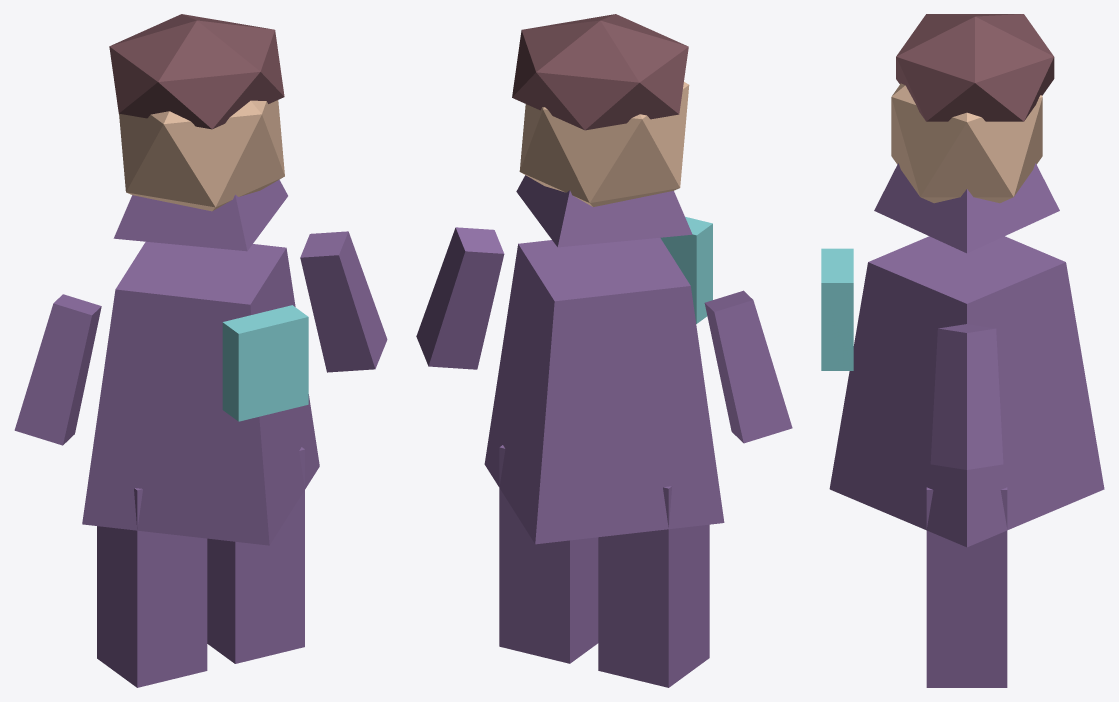
The model's file is lydia-v01.glb.
3 renders of one model, left to right at view 1: azimuth 30°, elevation 25°; view 2: azimuth 150°, elevation 25°; view 3: azimuth 270°, elevation 25°, orthographic.
Visible parts, largest first — view 1: torso, leg, hair, head, leg.001, charm, arm.001, arm, collar; view 2: torso, leg, hair, leg.001, head, arm.001, arm, collar, charm; view 3: torso, hair, leg.001, head, arm.001, collar, charm.
Boxes of the visible parts, x1,y1,x2,y2 form: torso: (82, 241, 319, 545); leg: (97, 488, 207, 687); hair: (109, 14, 284, 129); head: (119, 100, 284, 211); leg.001: (207, 447, 304, 663); charm: (222, 305, 308, 421); arm.001: (300, 231, 387, 372); arm: (14, 294, 101, 445); collar: (113, 179, 287, 251); torso: (484, 238, 724, 544); leg: (598, 486, 709, 687); hair: (512, 14, 688, 130); leg.001: (499, 445, 598, 663); head: (519, 82, 689, 206); arm.001: (416, 227, 504, 369); arm: (704, 290, 792, 443); collar: (516, 175, 692, 247); charm: (660, 216, 712, 323); torso: (829, 236, 1104, 547); hair: (896, 14, 1054, 121); leg.001: (926, 487, 1007, 687); head: (891, 83, 1042, 203); arm.001: (930, 324, 1003, 469); collar: (874, 163, 1059, 253); charm: (821, 248, 853, 370).
Size of the model in its own units: 1.07 by 1.72 by 0.7.
